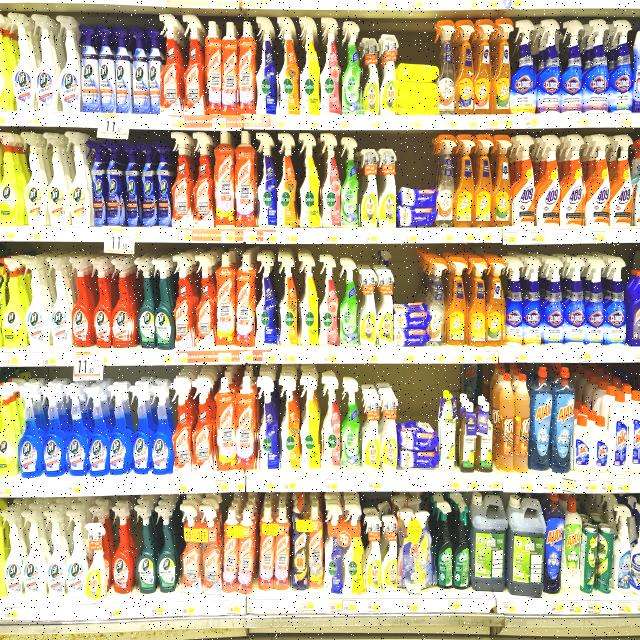MIS: (85, 521, 107, 606)
Product: (469, 495, 511, 598), (506, 496, 548, 598), (179, 503, 223, 597), (325, 503, 367, 596), (397, 507, 436, 595), (289, 499, 324, 589), (530, 368, 559, 476), (256, 502, 290, 592), (222, 504, 255, 595), (160, 14, 188, 116), (552, 367, 578, 474), (8, 13, 36, 112), (56, 15, 84, 113), (42, 131, 70, 229), (182, 14, 208, 116), (32, 14, 59, 112), (533, 17, 560, 114), (563, 501, 590, 597), (14, 388, 42, 480), (45, 255, 72, 350), (543, 494, 568, 596), (16, 131, 42, 227), (64, 132, 90, 228), (585, 133, 611, 228), (607, 19, 633, 113), (168, 132, 193, 228), (193, 132, 218, 228), (212, 378, 236, 477), (560, 135, 586, 226), (19, 258, 45, 349), (86, 386, 112, 477), (560, 18, 584, 116), (66, 257, 92, 347), (582, 20, 607, 113), (610, 135, 635, 228), (39, 386, 64, 479), (42, 510, 68, 599), (256, 16, 279, 116), (277, 16, 300, 116), (64, 386, 89, 478), (110, 385, 135, 477), (509, 19, 533, 114), (194, 254, 218, 349), (474, 18, 497, 117), (64, 510, 89, 601), (386, 300, 433, 348), (192, 382, 216, 476), (342, 19, 365, 117), (86, 259, 111, 349), (21, 510, 46, 600), (397, 63, 439, 116), (395, 422, 442, 469), (538, 135, 562, 227), (172, 256, 196, 348), (152, 258, 176, 350), (128, 384, 152, 476), (148, 386, 172, 478), (170, 383, 194, 475), (0, 509, 24, 601), (130, 259, 154, 350), (0, 259, 24, 350), (300, 17, 322, 116), (214, 254, 237, 348), (602, 256, 626, 346), (561, 258, 585, 348), (214, 131, 236, 229), (277, 378, 300, 471), (540, 258, 564, 347), (453, 19, 475, 116), (234, 131, 256, 228), (236, 378, 258, 475), (511, 136, 534, 228), (583, 256, 606, 348), (426, 256, 449, 348), (256, 382, 279, 474), (434, 19, 456, 115), (85, 140, 109, 228), (277, 133, 299, 229), (298, 133, 320, 229), (127, 25, 150, 116), (109, 259, 132, 350), (255, 133, 277, 228), (118, 141, 142, 228), (93, 24, 116, 114), (109, 510, 132, 600), (133, 504, 156, 594), (319, 134, 341, 228), (152, 508, 175, 597), (255, 256, 277, 349), (496, 374, 516, 476), (512, 374, 532, 476), (321, 378, 343, 470), (320, 20, 341, 116), (0, 131, 21, 227), (436, 134, 457, 230), (492, 19, 513, 114), (611, 504, 633, 594), (520, 258, 542, 347), (500, 257, 522, 346), (340, 380, 362, 469), (455, 135, 476, 228), (111, 26, 133, 114), (137, 141, 159, 229), (341, 137, 362, 229), (297, 256, 318, 348), (276, 256, 297, 347), (206, 21, 226, 116), (102, 142, 124, 228), (152, 142, 174, 228), (319, 257, 340, 347), (474, 134, 494, 228), (236, 254, 256, 348), (300, 376, 320, 470), (396, 186, 440, 228), (339, 258, 360, 346), (492, 135, 512, 227), (433, 498, 453, 590), (448, 258, 468, 348), (452, 503, 472, 593), (610, 393, 631, 478), (80, 24, 100, 113), (221, 22, 240, 115), (0, 386, 19, 477), (484, 256, 503, 346), (466, 257, 485, 347), (239, 21, 257, 115), (145, 28, 164, 116), (361, 34, 381, 117), (373, 270, 393, 348), (360, 147, 379, 228), (382, 32, 400, 117), (380, 149, 399, 229), (439, 393, 458, 472), (358, 270, 377, 348), (362, 393, 380, 473), (380, 394, 398, 474), (580, 521, 599, 596), (382, 514, 400, 592), (365, 515, 383, 592), (622, 272, 640, 346), (477, 401, 495, 474), (596, 524, 614, 595), (459, 401, 476, 474), (0, 14, 12, 112), (592, 418, 611, 477), (627, 390, 640, 475), (572, 414, 591, 472), (630, 504, 640, 598), (630, 23, 640, 113)
